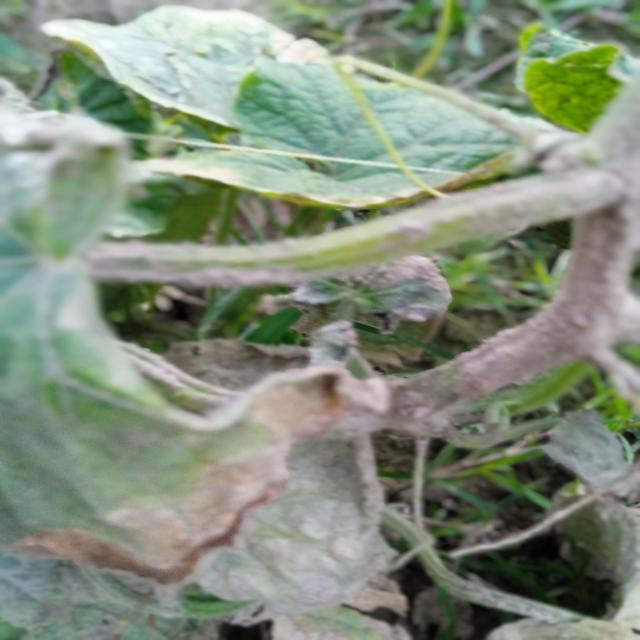cucumber_bacterial: (7, 108, 410, 639)
